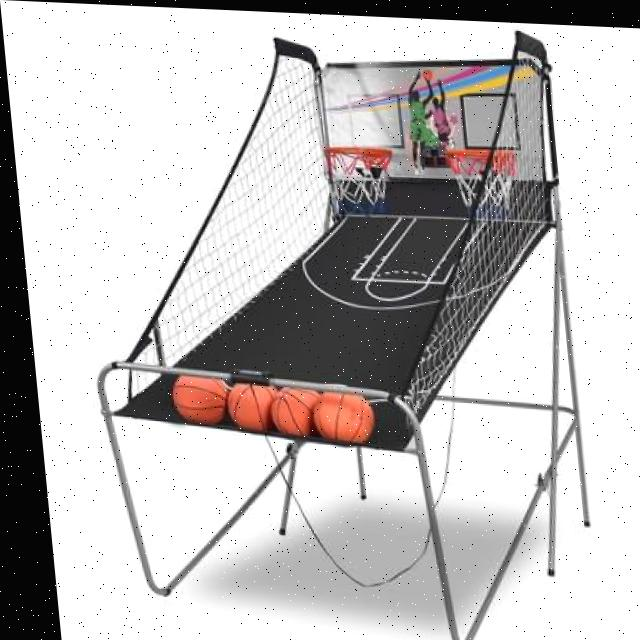basketball: (312, 391, 376, 447), (172, 374, 232, 427), (226, 381, 283, 433), (270, 386, 325, 439)
hoop: (446, 147, 522, 222), (321, 145, 399, 217)
